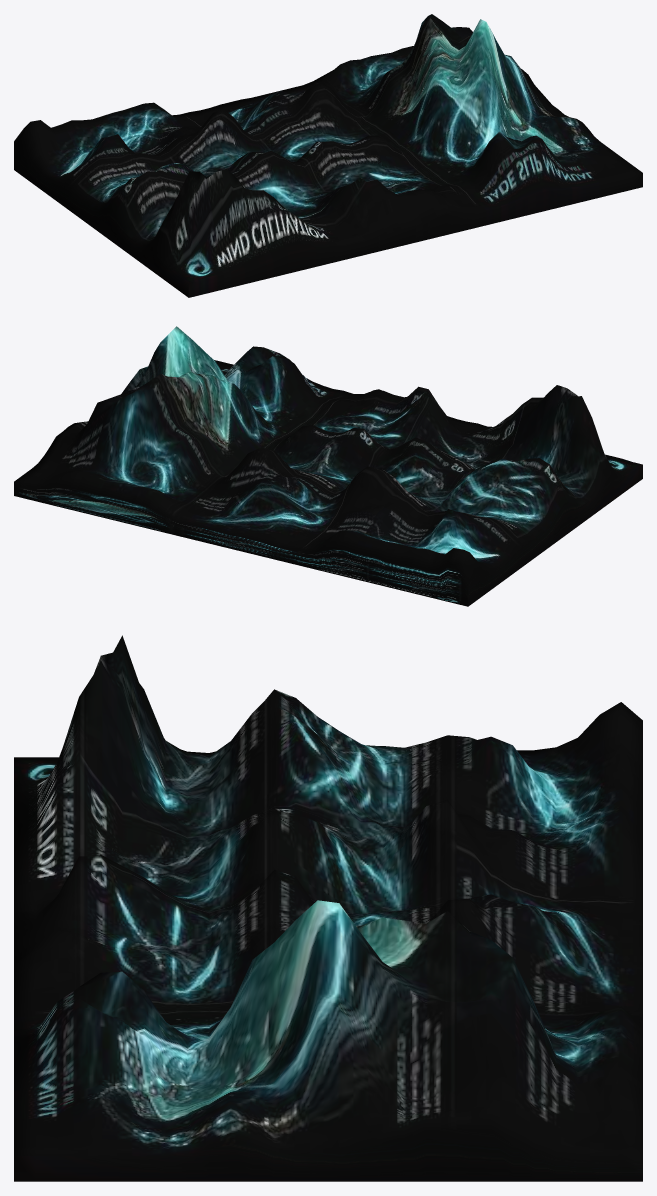
File: CUL_25_Wind.glb
The picture shows the model from 3 angles, top to bottom: view 1: azimuth 30°, elevation 25°; view 2: azimuth 150°, elevation 25°; view 3: azimuth 270°, elevation 25°; orthographic projection. The views are drawn at different scales.
Parts seen in each view (by area): view 1: CUL_25_Wind; view 2: CUL_25_Wind; view 3: CUL_25_Wind.
Boxes of the visible parts, x1,y1,x2,y2 form: CUL_25_Wind: (14,14,642,297); CUL_25_Wind: (14,326,642,606); CUL_25_Wind: (14,635,642,1181).
Size of the model in its own units: 2 by 0.51 by 1.33.
Materials: 1 (1 with a texture image).
